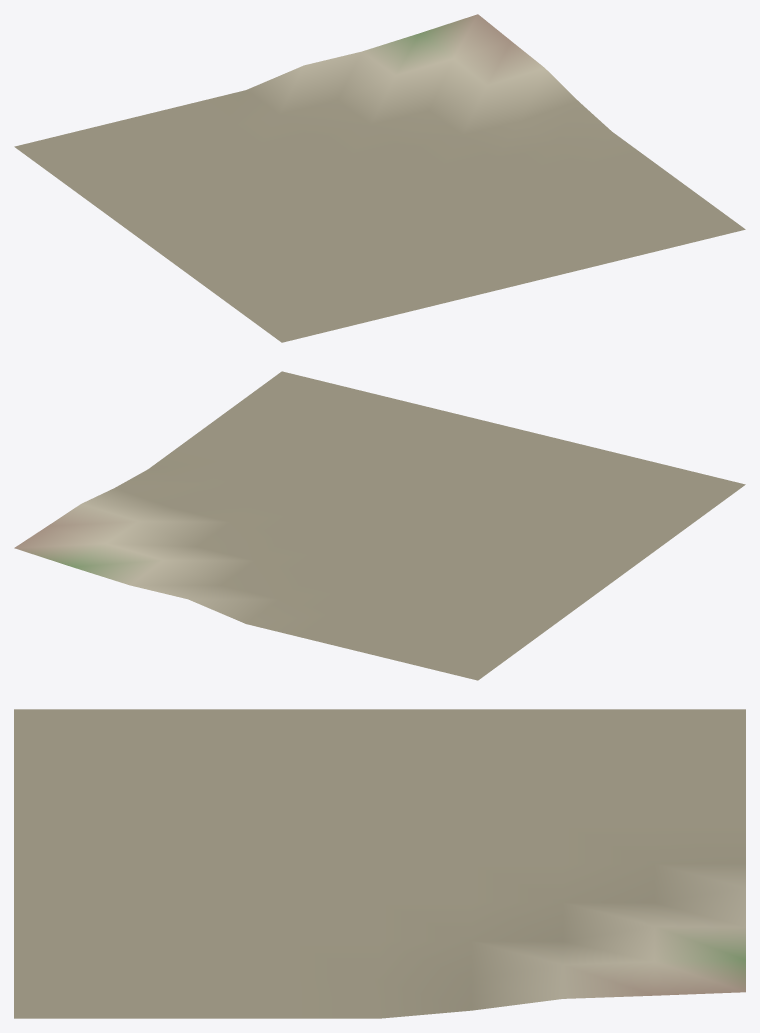
The picture shows the model from 3 angles, top to bottom: view 1: azimuth 30°, elevation 25°; view 2: azimuth 150°, elevation 25°; view 3: azimuth 270°, elevation 25°; orthographic projection. The views are drawn at different scales.
Visible parts, largest first — view 1: Lo; view 2: Lo; view 3: Lo.
Part boxes in pixels (left/top/right/bottom): Lo: left=14, top=14, right=745, bottom=342; Lo: left=14, top=371, right=745, bottom=680; Lo: left=14, top=709, right=745, bottom=1018.
Size of the model in its own units: 256 by 10.19 by 256.
